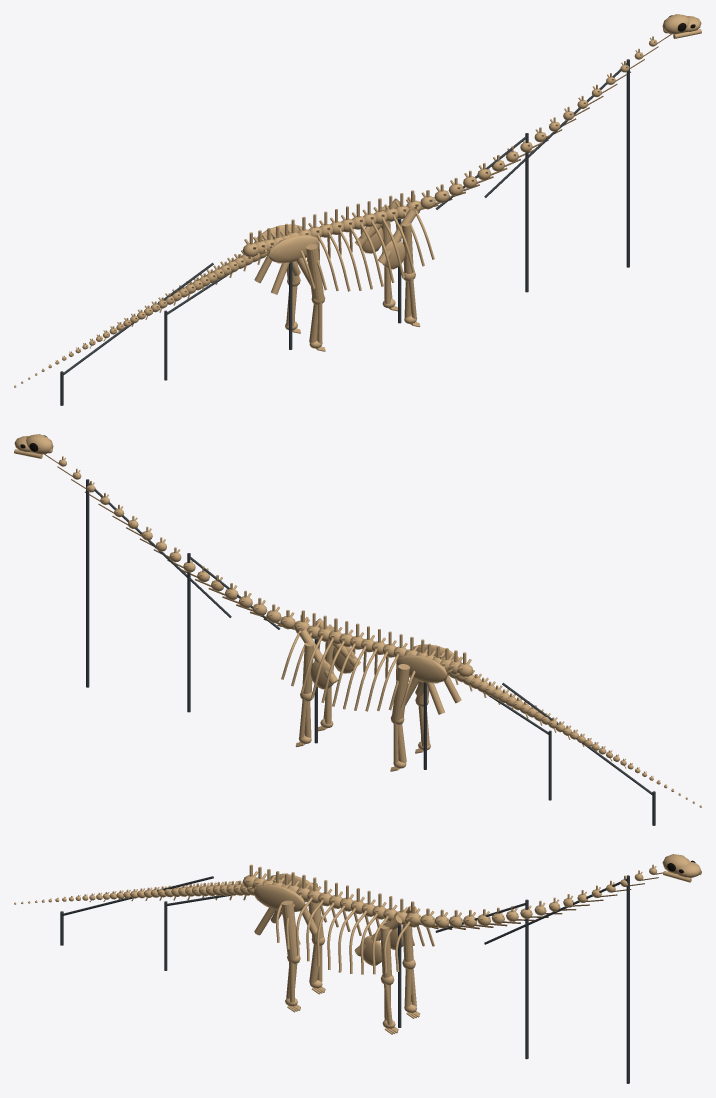
The model's file is mamenchisaurus.glb.
3 renders of one model, top to bottom at view 1: azimuth 30°, elevation 25°; view 2: azimuth 150°, elevation 25°; view 3: azimuth 330°, elevation 25°, orthographic.
Parts seen in each view (by area): view 1: ilium, steel support.003, hindlimb upper bone; view 2: ilium.001, steel support.003, hindlimb upper bone.001; view 3: ilium, steel support.003, hindlimb upper bone, steel support.002, forelimb upper bone, coracoid, diagonal steel brace.003, steel support.001.
Boxes of the visible parts, x1=… form: ilium: x1=268, y1=234, x2=319, y2=263; steel support.003: x1=626, y1=59, x2=629, y2=267; hindlimb upper bone: x1=306, y1=244, x2=323, y2=301; ilium.001: x1=396, y1=654, x2=447, y2=683; steel support.003: x1=86, y1=479, x2=89, y2=687; hindlimb upper bone.001: x1=392, y1=664, x2=409, y2=721; ilium: x1=253, y1=884, x2=305, y2=912; steel support.003: x1=626, y1=875, x2=629, y2=1083; hindlimb upper bone: x1=281, y1=900, x2=297, y2=959; steel support.002: x1=525, y1=899, x2=528, y2=1059; forelimb upper bone: x1=380, y1=925, x2=391, y2=977; coracoid: x1=360, y1=936, x2=381, y2=965; diagonal steel brace.003: x1=62, y1=876, x2=213, y2=915; steel support.001: x1=398, y1=924, x2=401, y2=1027.
Bounding box in the file's own units: 26.39 × 8.82 × 2.92.
